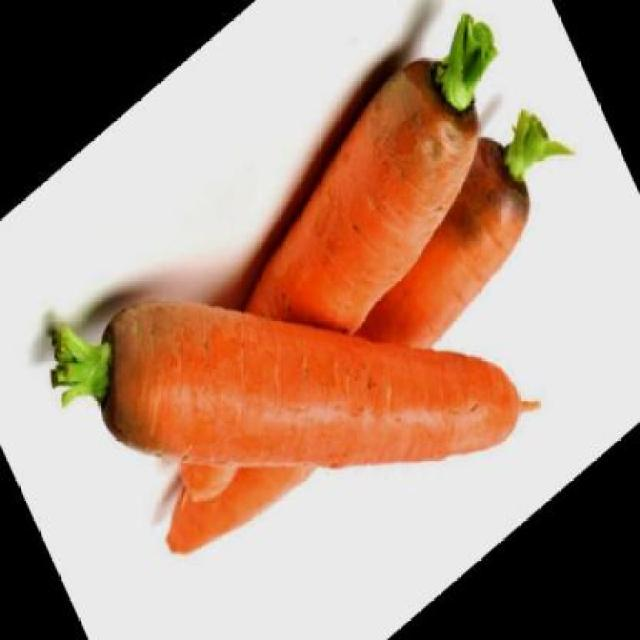carrot: (73, 86, 530, 639), (119, 120, 558, 582), (107, 32, 528, 513)
